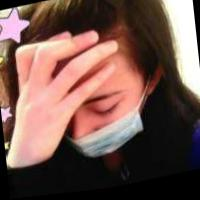WRONG: (42, 73, 144, 170)
